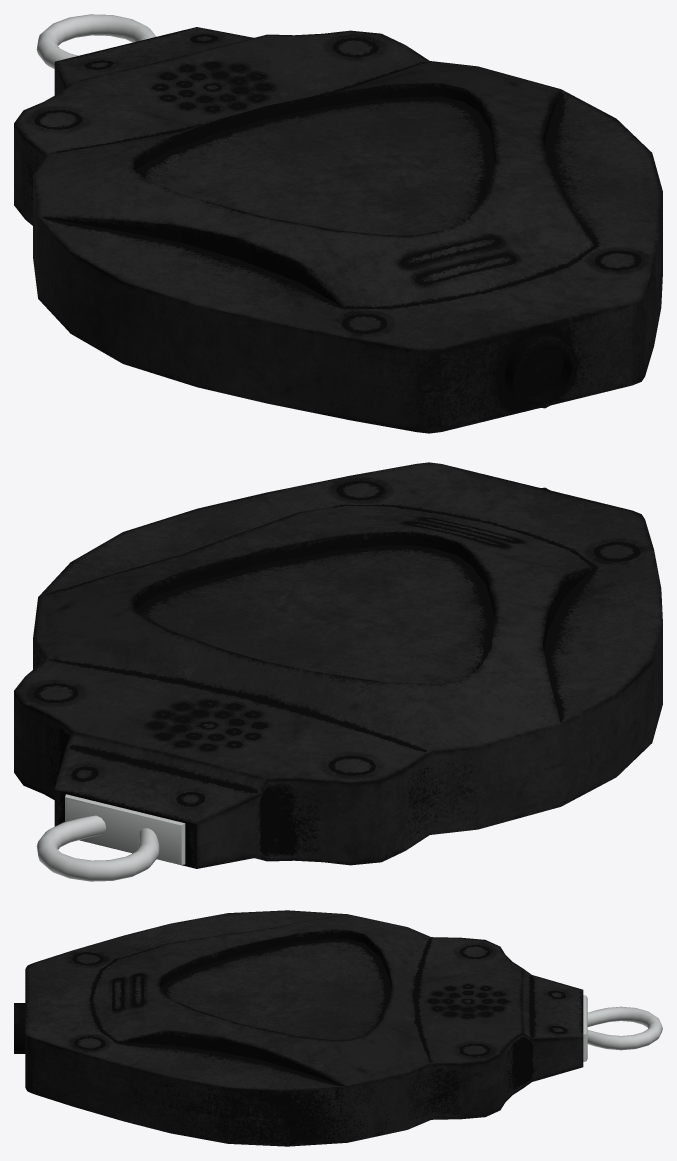
Rendered from cuerda_pequena.fbx.
3 renders of one model, top to bottom at view 1: azimuth 30°, elevation 25°; view 2: azimuth 150°, elevation 25°; view 3: azimuth 270°, elevation 25°, orthographic. The views are drawn at different scales.
Parts seen in each view (by area): view 1: cuerda_perqueña; view 2: cuerda_perqueña; view 3: cuerda_perqueña.
Part boxes in pixels (x1=…): cuerda_perqueña: x1=14, y1=14, x2=662, y2=433; cuerda_perqueña: x1=14, y1=462, x2=662, y2=881; cuerda_perqueña: x1=14, y1=910, x2=662, y2=1146.
Size of the model in its own units: 153 by 34.45 by 233.
1 material, 1 textured.
